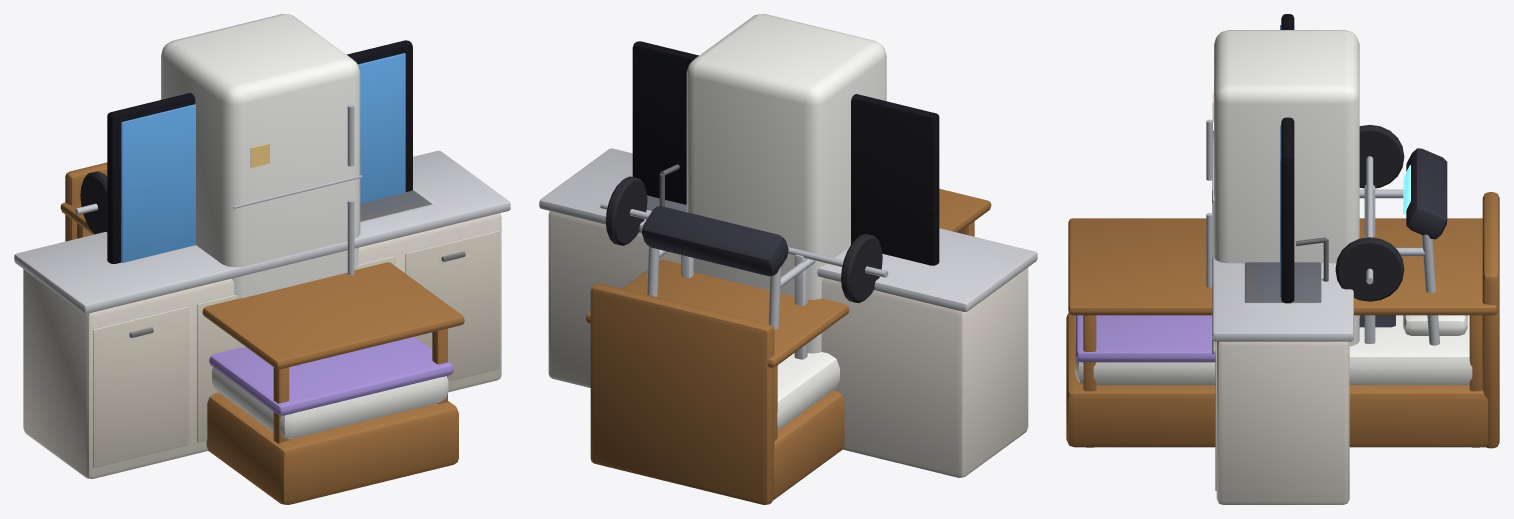
File: office-props-zone-d.e30338e1.glb
3 views of the same model, side by side, from view 1: azimuth 30°, elevation 25°; view 2: azimuth 150°, elevation 25°; view 3: azimuth 270°, elevation 25° (orthographic). The views are drawn at different scales.
Parts seen in each view (by area): view 1: kitchen-counter, fridge, bed, tv-stand, dining-table, weight-bench; view 2: kitchen-counter, bed, fridge, tv-stand, dining-table, treadmill, weight-bench; view 3: bed, kitchen-counter, fridge, dining-table, weight-bench, treadmill, tv-stand.
Part boxes in pixels (<box>): kitchen-counter: <box>14,150,510,478</box>; fridge: <box>161,14,362,347</box>; bed: <box>65,162,458,504</box>; tv-stand: <box>107,40,412,263</box>; dining-table: <box>60,202,464,443</box>; weight-bench: <box>75,171,107,234</box>; kitchen-counter: <box>539,148,1037,477</box>; bed: <box>590,283,844,504</box>; fridge: <box>686,14,886,353</box>; tv-stand: <box>632,41,939,265</box>; dining-table: <box>586,188,991,440</box>; treadmill: <box>642,206,815,365</box>; weight-bench: <box>600,176,888,359</box>; bed: <box>1066,192,1499,448</box>; kitchen-counter: <box>1212,130,1353,504</box>; fridge: <box>1206,30,1359,346</box>; dining-table: <box>1068,218,1497,447</box>; weight-bench: <box>1335,125,1404,343</box>; treadmill: <box>1359,148,1447,345</box>; tv-stand: <box>1280,14,1294,303</box>.
Bounding box in the file's own units: 2.26 × 1.8 × 2.02.
10 materials, 3 textured.
